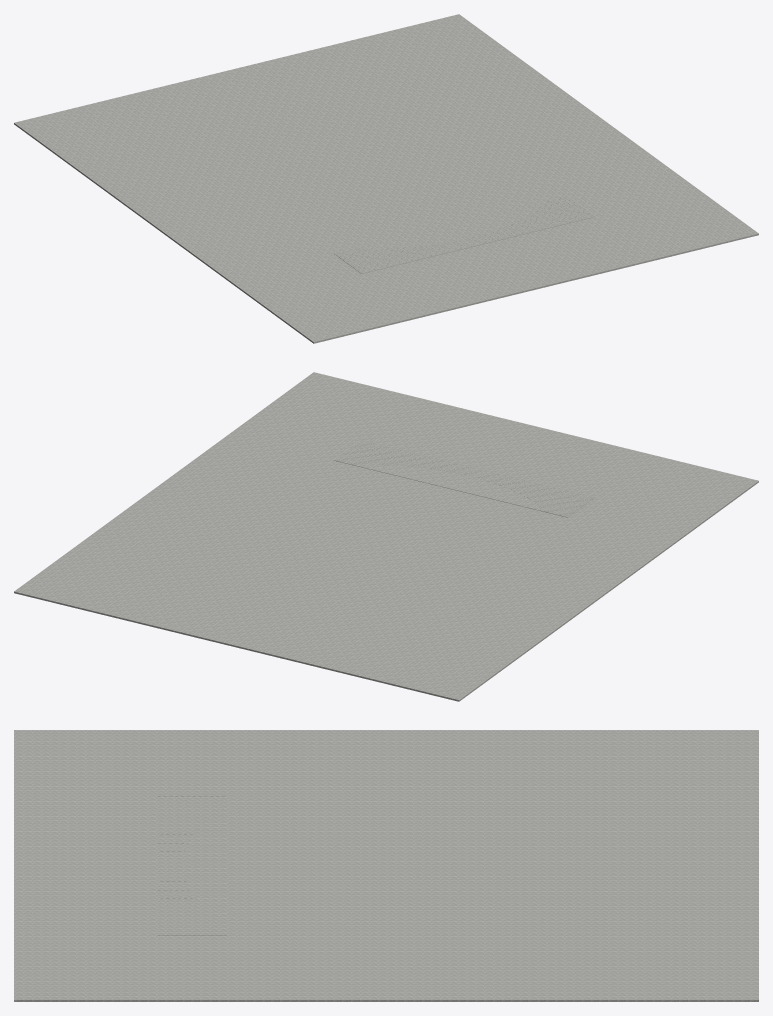
File: stone_plaza.glb
3 views of the same model, one above another, from view 1: azimuth 30°, elevation 25°; view 2: azimuth 150°, elevation 25°; view 3: azimuth 270°, elevation 25° (orthographic). The views are drawn at different scales.
Visible parts, largest first — view 1: continuous_surrounding_foundation_120x140, foreground_stone_plaza_clipped, foreground_plaza_continuous_bed; view 2: continuous_surrounding_foundation_120x140, foreground_stone_plaza_clipped, foreground_plaza_continuous_bed; view 3: continuous_surrounding_foundation_120x140, foreground_stone_plaza_clipped, foreground_plaza_continuous_bed.
Part boxes in pixels (x1=…): continuous_surrounding_foundation_120x140: x1=14, y1=14, x2=758, y2=343; foreground_stone_plaza_clipped: x1=334, y1=196, x2=594, y2=273; foreground_plaza_continuous_bed: x1=334, y1=202, x2=594, y2=273; continuous_surrounding_foundation_120x140: x1=14, y1=372, x2=758, y2=701; foreground_stone_plaza_clipped: x1=334, y1=440, x2=594, y2=517; foreground_plaza_continuous_bed: x1=334, y1=460, x2=594, y2=517; continuous_surrounding_foundation_120x140: x1=14, y1=730, x2=758, y2=1001; foreground_stone_plaza_clipped: x1=157, y1=793, x2=226, y2=935; foreground_plaza_continuous_bed: x1=158, y1=794, x2=226, y2=935.
Bounding box in the file's own units: 120 × 0.5105 × 140.
Materials: 2 (2 with a texture image).
